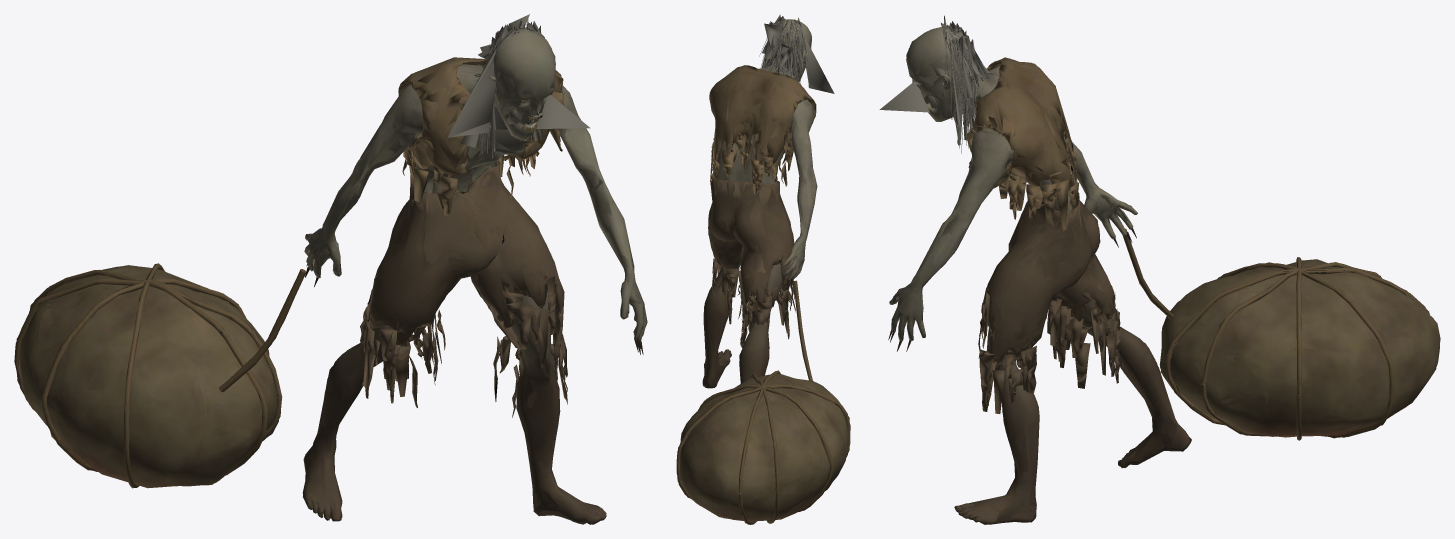
The model's file is ghoul-blender.glb.
3 views of the same model, side by side, from view 1: azimuth 30°, elevation 25°; view 2: azimuth 150°, elevation 25°; view 3: azimuth 270°, elevation 25° (orthographic). The views are drawn at different scales.
Visible parts, largest first — view 1: ghoul-blender_lod0_body, ghoul-blender_lod1_body, ghoul-blender_lod2_body, plain_hair.002, plain_hair.001; view 2: ghoul-blender_lod0_body, ghoul-blender_lod1_body, ghoul-blender_lod2_body, plain_hair.002, plain_hair.001; view 3: ghoul-blender_lod0_body, ghoul-blender_lod1_body, ghoul-blender_lod2_body, plain_hair.001, plain_hair.002.
Boxes of the visible parts, x1,y1,x2,y2 form: ghoul-blender_lod0_body: [14, 29, 646, 524]; ghoul-blender_lod1_body: [15, 29, 646, 524]; ghoul-blender_lod2_body: [16, 30, 647, 524]; plain_hair.002: [447, 17, 590, 154]; plain_hair.001: [470, 14, 544, 159]; ghoul-blender_lod0_body: [676, 19, 850, 524]; ghoul-blender_lod1_body: [676, 19, 850, 524]; ghoul-blender_lod2_body: [677, 20, 849, 523]; plain_hair.002: [762, 14, 834, 93]; plain_hair.001: [759, 16, 809, 87]; ghoul-blender_lod0_body: [889, 27, 1439, 524]; ghoul-blender_lod1_body: [890, 28, 1440, 524]; ghoul-blender_lod2_body: [890, 29, 1439, 524]; plain_hair.001: [936, 21, 999, 153]; plain_hair.002: [879, 15, 999, 144].
Bounding box in the file's own units: 0.6711 × 0.9388 × 0.9939.
6 materials, 1 textured.
